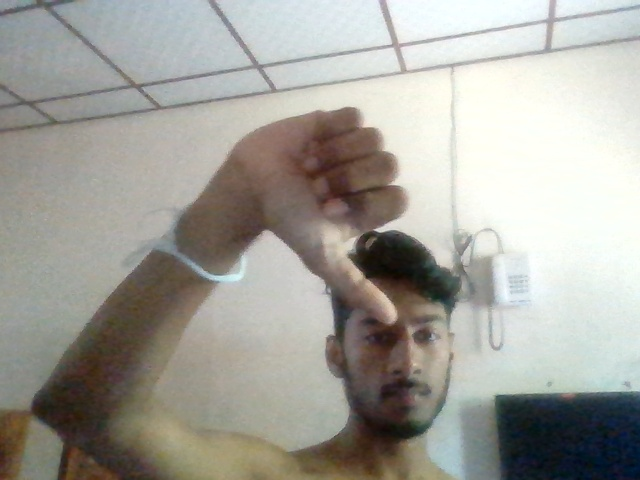ThumbsDown: (240, 105, 410, 326)
